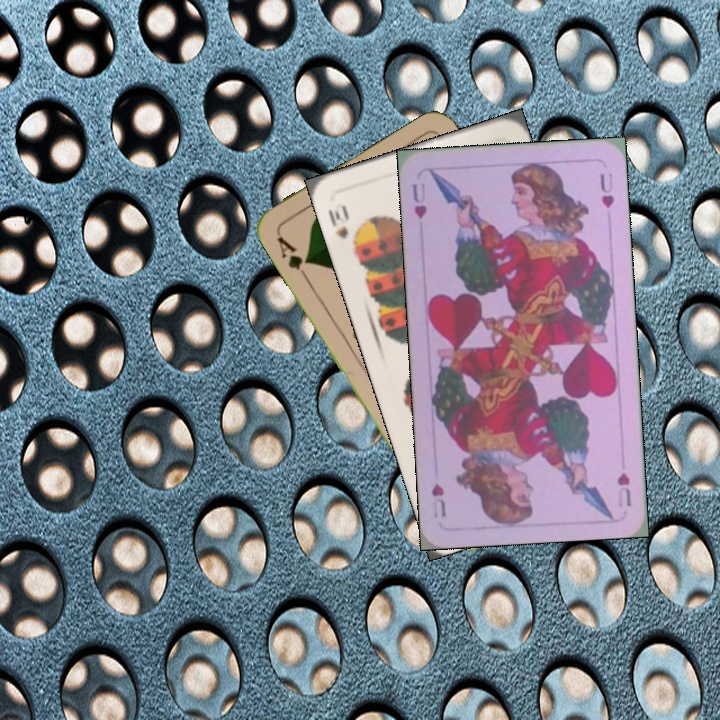GA: (272, 232, 313, 283)
HU: (408, 179, 430, 222), (613, 468, 634, 509)
S10: (324, 201, 362, 252)
